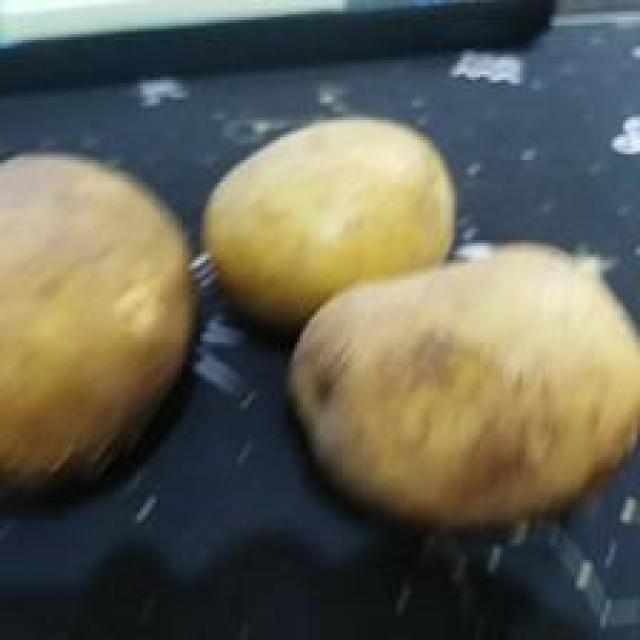Potato: (286, 242, 640, 539), (0, 152, 201, 517), (202, 118, 458, 345)
